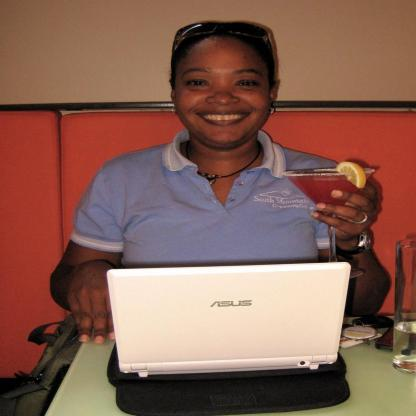board: (106, 259, 350, 378)
